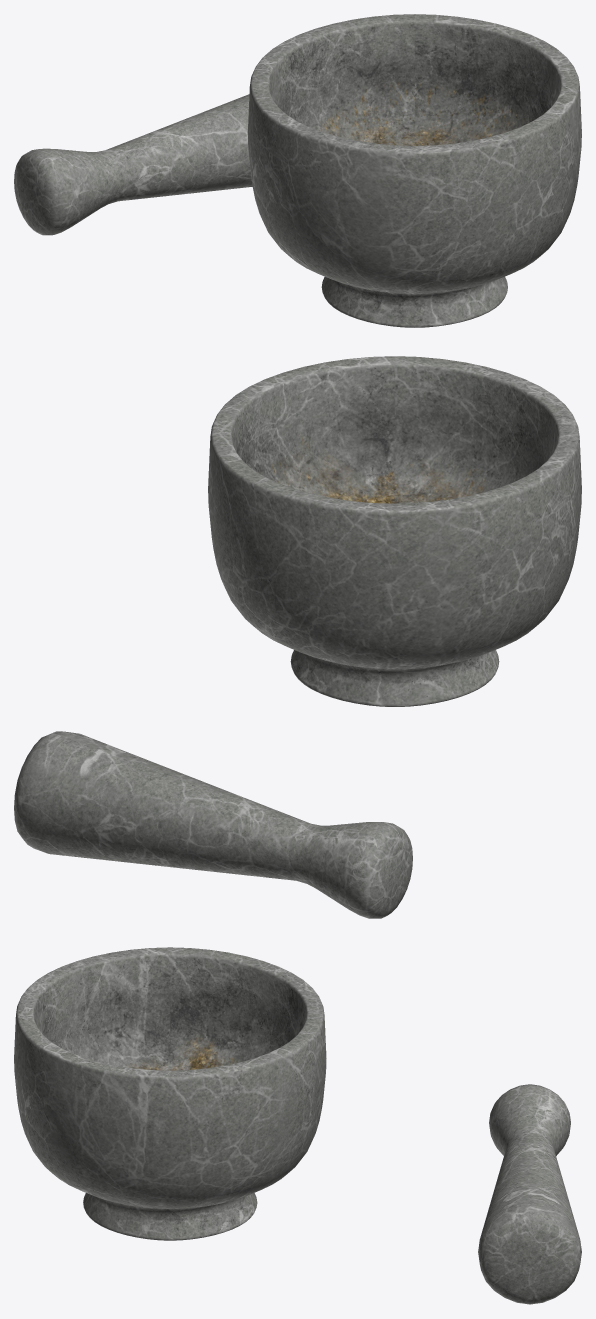
File: mortar__pestle.glb
The picture shows the model from 3 angles, top to bottom: view 1: azimuth 30°, elevation 25°; view 2: azimuth 150°, elevation 25°; view 3: azimuth 270°, elevation 25°; orthographic projection. The views are drawn at different scales.
Parts seen in each view (by area): view 1: mortar, pestle; view 2: mortar, pestle; view 3: mortar, pestle.
Part boxes in pixels (left/top/right/bottom): mortar: left=247, top=14, right=581, bottom=327; pestle: left=14, top=94, right=252, bottom=235; mortar: left=208, top=356, right=581, bottom=706; pestle: left=14, top=731, right=412, bottom=918; mortar: left=14, top=947, right=326, bottom=1240; pestle: left=478, top=1084, right=581, bottom=1304.
Size of the model in its own units: 41.71 by 30.1 by 64.47.
2 materials, 2 textured.
